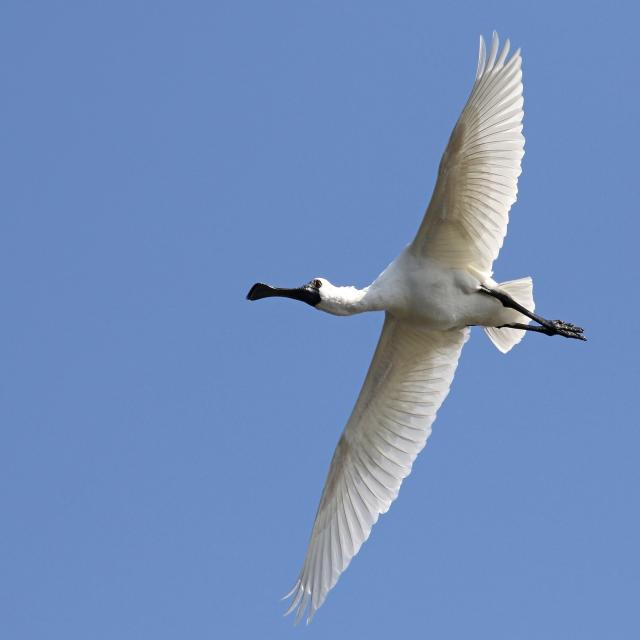Black-faced spoonbill: (248, 33, 585, 622)
